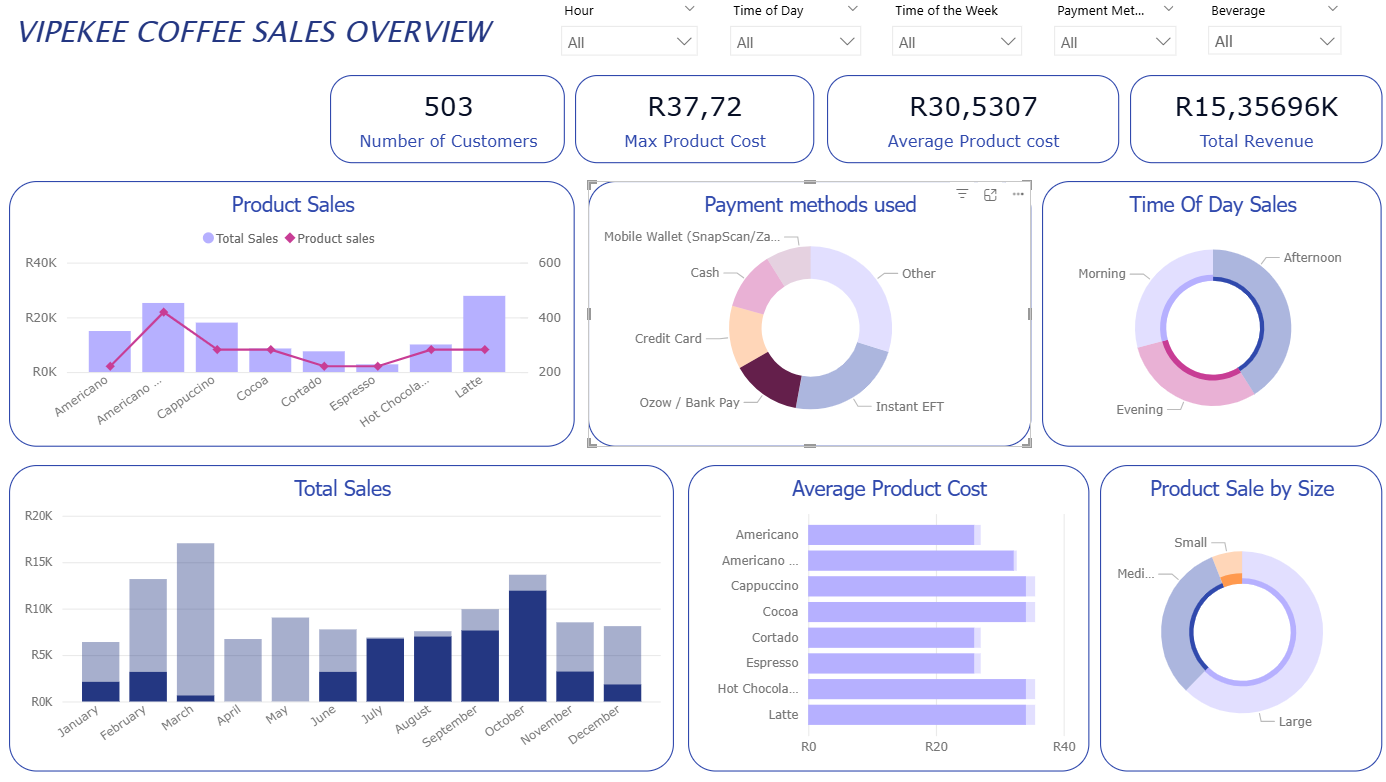

The page's visual inventory and layout, read from the dashboard file:
{"tool":"powerbi","page":{"name":"Overview","canvas":[1280,720],"ordinal":0},"visuals":[{"type":"clusteredColumnChart","title":"Total Sales","fields":{"Y":["Sum(Dim_Payment.money)"],"Category":["Dim_Payment.Year","Coffee_Shop_Facts.Month Name","Dim_Payment.Day"]},"box":[18.1,429.8,603,278.4],"z":0},{"type":"lineStackedColumnComboChart","title":"Product Sales ","fields":{"Category":["Dim_beverages.coffee_name"],"Y":["Sum(Dim_beverages.money)"],"Y2":["CountNonNull(Coffee_Shop_Facts.PaymentMethod)"]},"box":[18.1,172.3,513.2,241.2],"z":1000},{"type":"slicer","fields":{"Values":["Dim_Payment.Day_Type"]},"box":[780,3.6,145.1,65.3],"z":2000},{"type":"donutChart","title":"Time Of Day Sales","fields":{"Category":["Dim_time.TimeOfDay"],"Y":["Sum(Coffee_Shop_Facts.money)"]},"box":[954.9,172.3,308.3,241.2],"z":3000},{"type":"slicer","fields":{"Values":["Dim_time.TimeOfDay"]},"box":[621.2,3.6,149.6,65.3],"z":4000},{"type":"slicer","fields":{"Values":["Coffee_Shop_Facts.PaymentMethod"]},"box":[934.4,3.6,142.4,65.3],"z":5000},{"type":"donutChart","title":"Payment methods used ","fields":{"Category":["Coffee_Shop_Facts.PaymentMethod"],"Y":["CountNonNull(Coffee_Shop_Facts.PaymentMethod)"]},"box":[543.2,172.3,401.7,241.2],"z":6000},{"type":"barChart","title":"Average Product Cost ","fields":{"Category":["Dim_beverages.coffee_name"],"Y":["Avg(Coffee_Shop_Facts.money)"]},"box":[633.9,429.8,363.6,278.4],"z":7000},{"type":"cardVisual","fields":{"Data":["Sum(Coffee_Shop_Facts.money)"]},"box":[1034.7,76.2,228.5,79.8],"z":8000},{"type":"cardVisual","fields":{"Data":["Avg(Coffee_Shop_Facts.money)"]},"box":[759.9,76.2,264.8,79.8],"z":9000},{"type":"cardVisual","fields":{"Data":["Max(Coffee_Shop_Facts.money)"]},"box":[531.4,76.2,216.7,79.8],"z":10000},{"type":"cardVisual","fields":{"Data":["CountNonNull(Coffee_Shop_Facts.card)"]},"box":[309.2,76.2,213.1,79.8],"z":11000},{"type":"slicer","fields":{"Values":["Coffee_Shop_Facts.coffee_name"]},"box":[1086,4,150,65],"z":12000},{"type":"donutChart","title":"Product Sale by Size","fields":{"Category":["Coffee_Shop_Facts.size"],"Y":["Sum(Coffee_Shop_Facts.money)"]},"box":[1007.5,429.8,255.7,278.4],"z":13000},{"type":"textbox","box":[18.1,12.7,457.9,56.2],"z":13001}]}

Visuals, with their boxes in screenshot pixels (x1, y1, x2, y2), scaled from the page's 1280x720 canvas onto the 1386x782 screenshot:
"Total Sales" clusteredColumnChart: (20, 467, 673, 769)
"Product Sales " lineStackedColumnComboChart: (20, 187, 575, 449)
slicer - Dim_Payment.Day_Type: (845, 4, 1002, 75)
"Time Of Day Sales" donutChart: (1034, 187, 1368, 449)
slicer - Dim_time.TimeOfDay: (673, 4, 835, 75)
slicer - Coffee_Shop_Facts.PaymentMethod: (1012, 4, 1166, 75)
"Payment methods used " donutChart: (588, 187, 1023, 449)
"Average Product Cost " barChart: (686, 467, 1080, 769)
cardVisual - Sum(Coffee_Shop_Facts.money): (1120, 83, 1368, 169)
cardVisual - Avg(Coffee_Shop_Facts.money): (823, 83, 1110, 169)
cardVisual - Max(Coffee_Shop_Facts.money): (575, 83, 810, 169)
cardVisual - CountNonNull(Coffee_Shop_Facts.card): (335, 83, 566, 169)
slicer - Coffee_Shop_Facts.coffee_name: (1176, 4, 1338, 75)
"Product Sale by Size" donutChart: (1091, 467, 1368, 769)
textbox: (20, 14, 515, 75)
